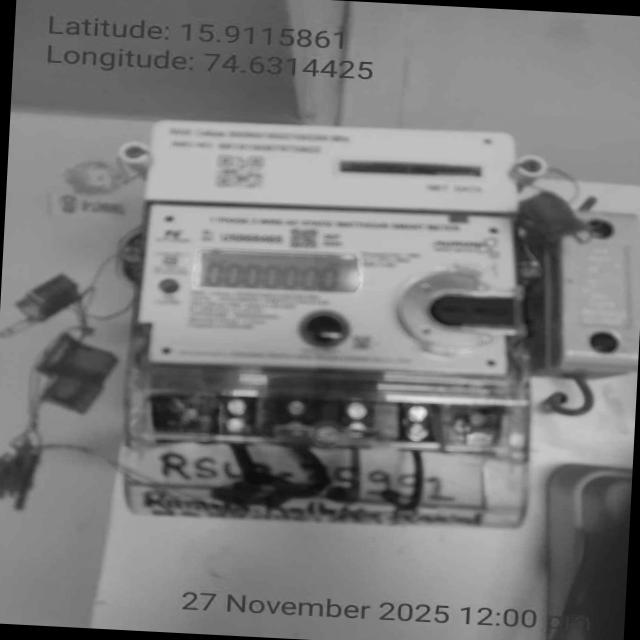meter: (135, 118, 528, 380)
